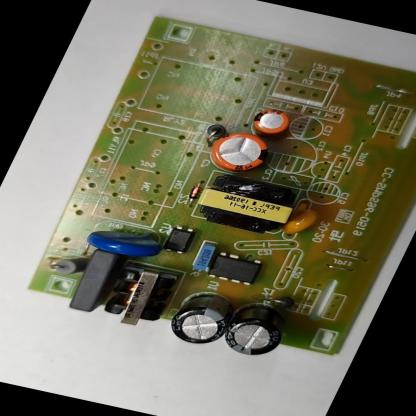Cap1: (195, 124, 283, 181)
Cap2: (241, 104, 301, 142)
Cap3: (155, 282, 247, 352)
Cap4: (212, 290, 307, 362)
MOSFET: (199, 248, 270, 291)
Mov: (77, 218, 174, 265)
Resistor: (45, 246, 96, 280)
Transformer: (183, 165, 314, 242), (91, 256, 188, 332)
